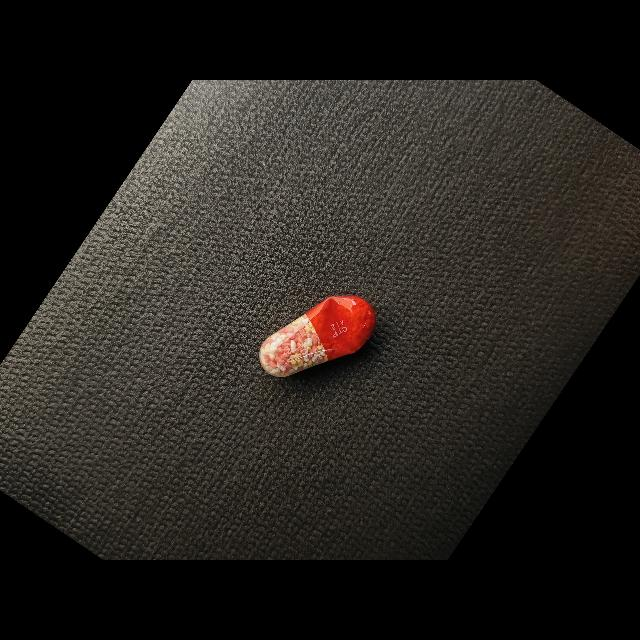Defective Capsule: (259, 295, 376, 377)
